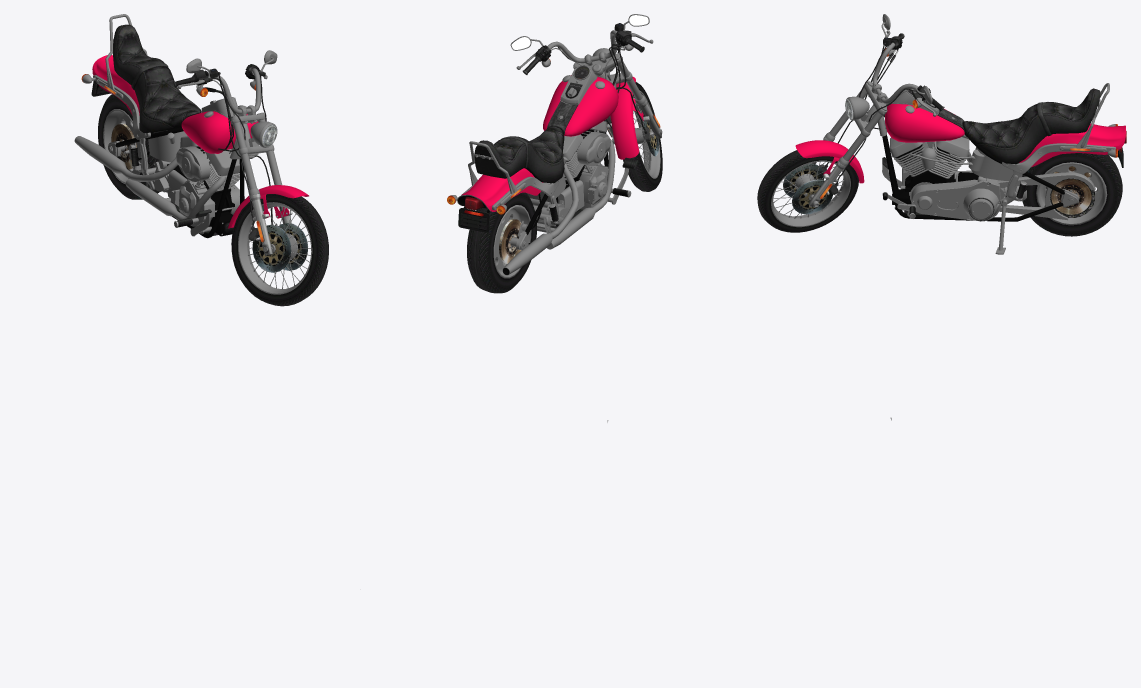
File: harley_davidson_seventy_two_hd_fxt_2015.glb
The picture shows the model from 3 angles, left to right: view 1: azimuth 30°, elevation 25°; view 2: azimuth 150°, elevation 25°; view 3: azimuth 270°, elevation 25°; orthographic projection. The views are drawn at different scales.
Parts seen in each view (by area): view 1: Object_9, Object_12, Object_17, Object_6, Object_7, Object_3, Object_14, Object_15, Object_16; view 2: Object_9, Object_6, Object_17, Object_12, Object_14, Object_15, Object_7; view 3: Object_9, Object_17, Object_6, Object_12, Object_7, Object_3, Object_15, Object_14, Object_5, Object_4.
Part boxes in pixels (<box>): Object_9: <box>74,14,312,294</box>; Object_12: <box>113,24,201,132</box>; Object_17: <box>98,94,328,306</box>; Object_6: <box>92,55,308,228</box>; Object_7: <box>111,123,307,272</box>; Object_3: <box>96,84,244,238</box>; Object_14: <box>91,64,277,240</box>; Object_15: <box>131,70,266,227</box>; Object_16: <box>249,194,292,256</box>; Object_9: <box>450,14,662,278</box>; Object_6: <box>462,75,643,211</box>; Object_17: <box>467,82,662,293</box>; Object_12: <box>474,126,564,183</box>; Object_14: <box>458,23,653,232</box>; Object_15: <box>522,30,644,221</box>; Object_7: <box>499,121,658,263</box>; Object_9: <box>771,14,1125,254</box>; Object_17: <box>757,150,1122,236</box>; Object_6: <box>795,103,1125,183</box>; Object_12: <box>963,88,1100,164</box>; Object_7: <box>783,163,1091,214</box>; Object_3: <box>882,134,1120,221</box>; Object_15: <box>859,33,1094,217</box>; Object_14: <box>809,36,1123,218</box>; Object_5: <box>905,163,1018,191</box>; Object_4: <box>895,144,994,220</box>.
Size of what is drawn, in the model's own units: 2.09 by 3.51 by 2.09.
18 materials, 10 textured.
